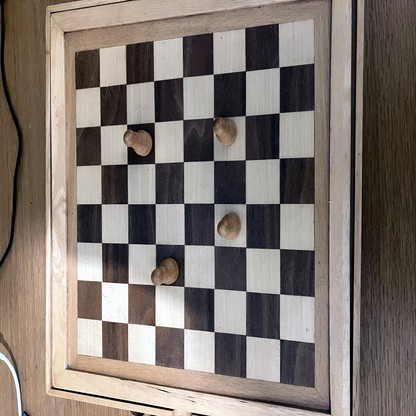pawn_white: (151, 258, 180, 284), (213, 119, 238, 147), (124, 130, 152, 155), (218, 214, 240, 240)
